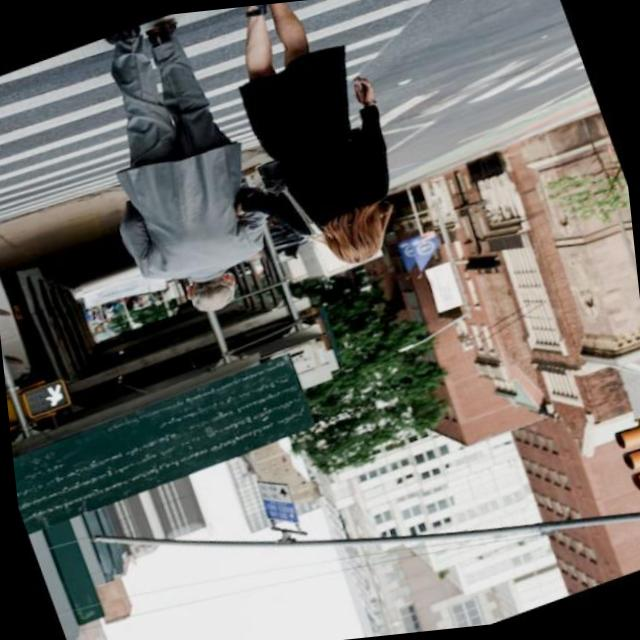person: (36, 3, 303, 350), (161, 0, 434, 308)
